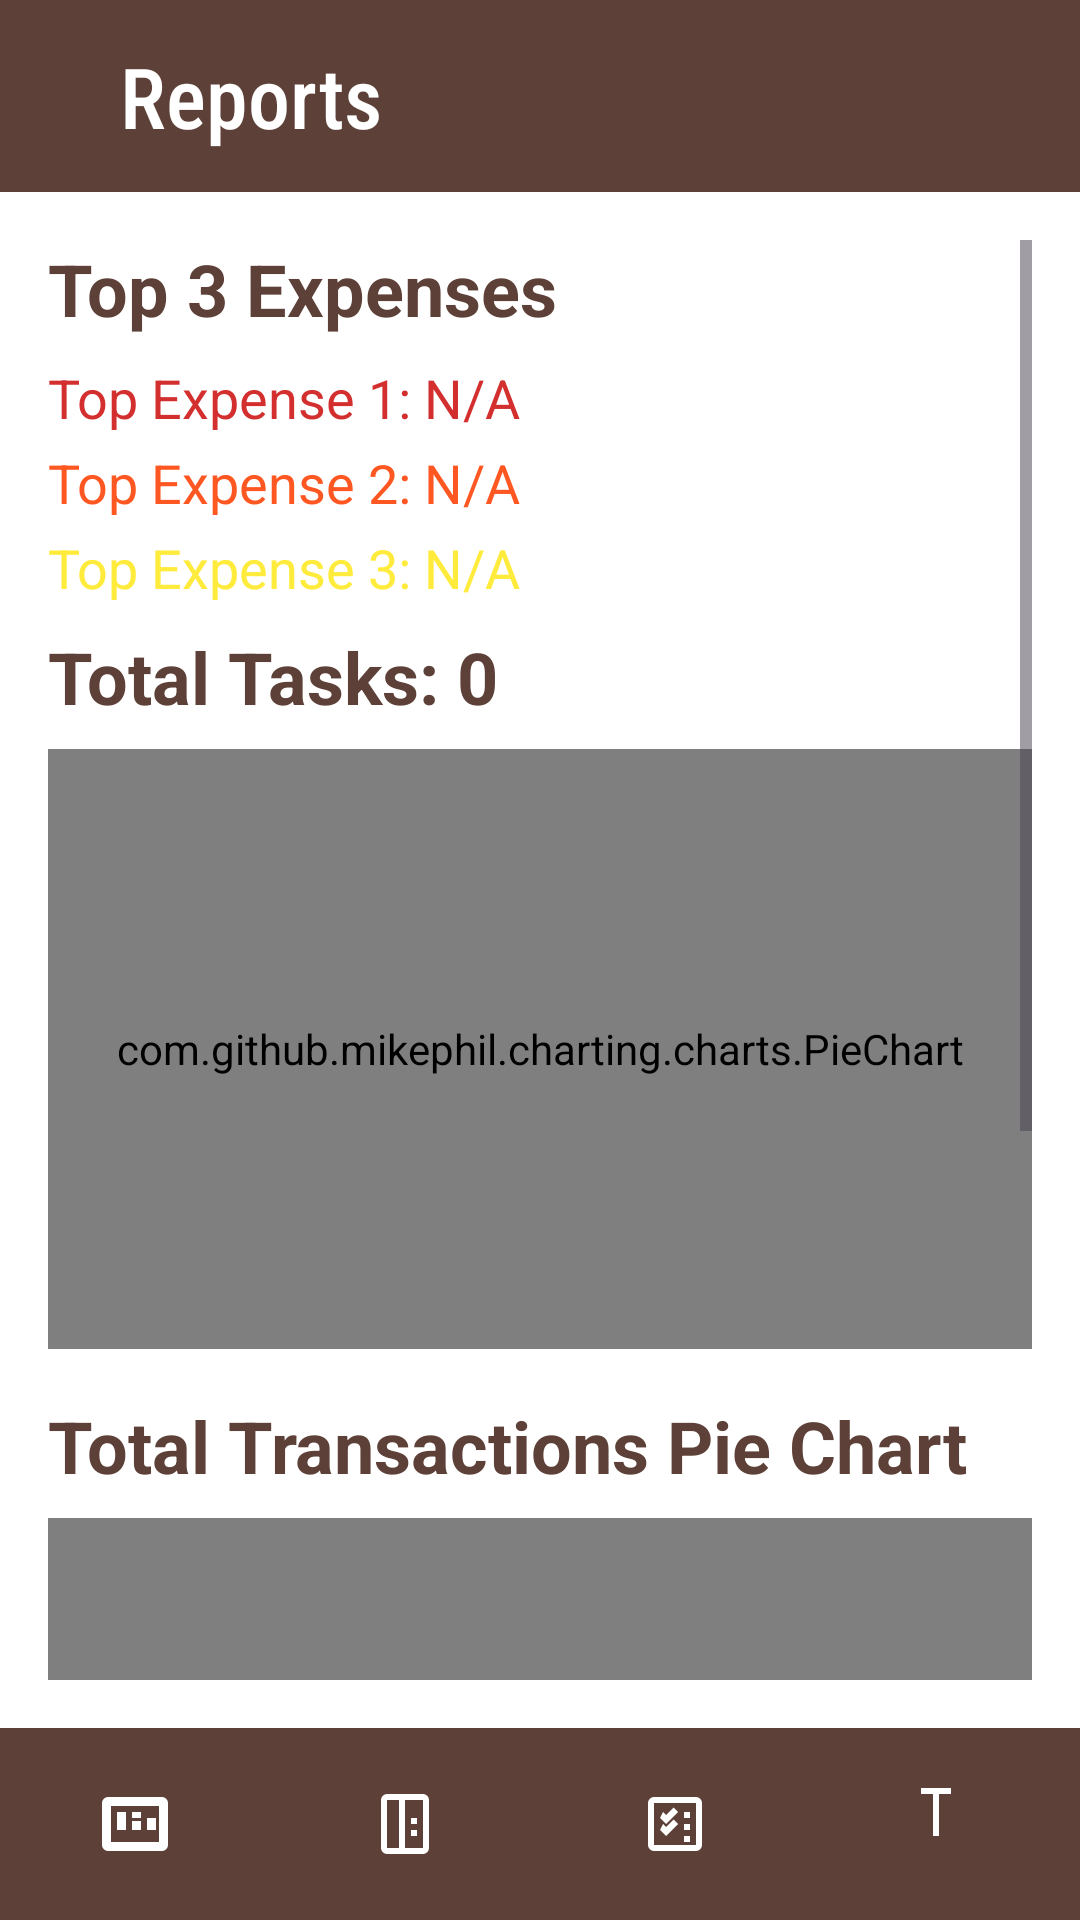

Icons on this 1080px×1920px Android screen, each with its box as (x1, y1, x2, y2):
Tasks: (648, 1797, 702, 1851)
